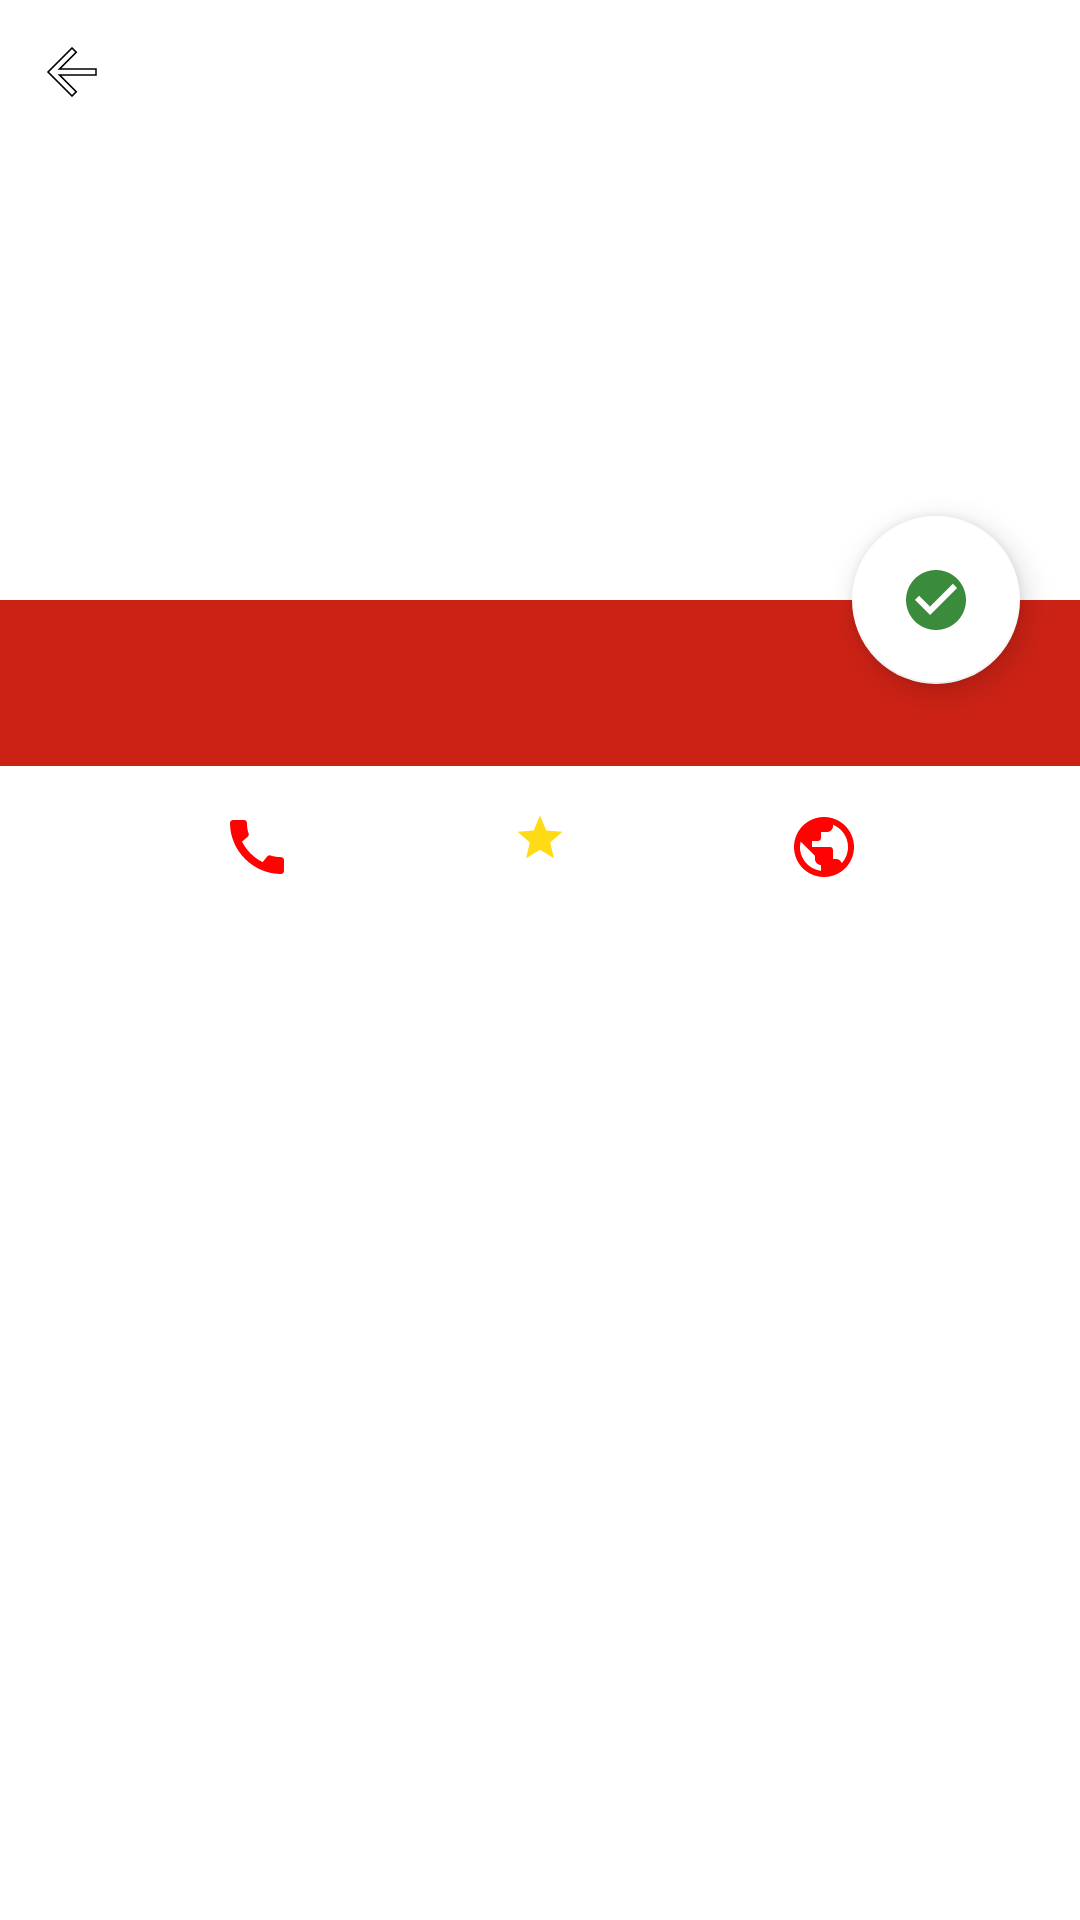

Icons on this 1080px×1920px Android screen, each with the point to tap as (x=x, y=y):
arrow back: (x=72, y=72)
call: (x=257, y=847)
check circle: (x=936, y=600)
public: (x=824, y=847)
rating: (x=540, y=837)
